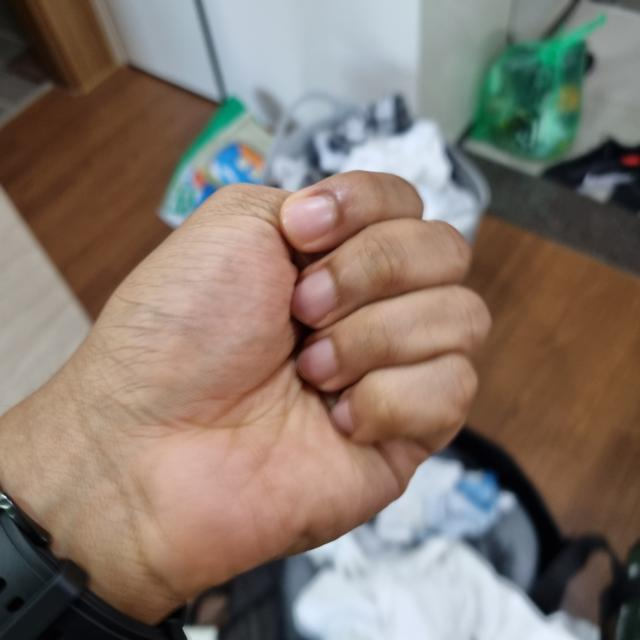Rock: (0, 168, 489, 600)
